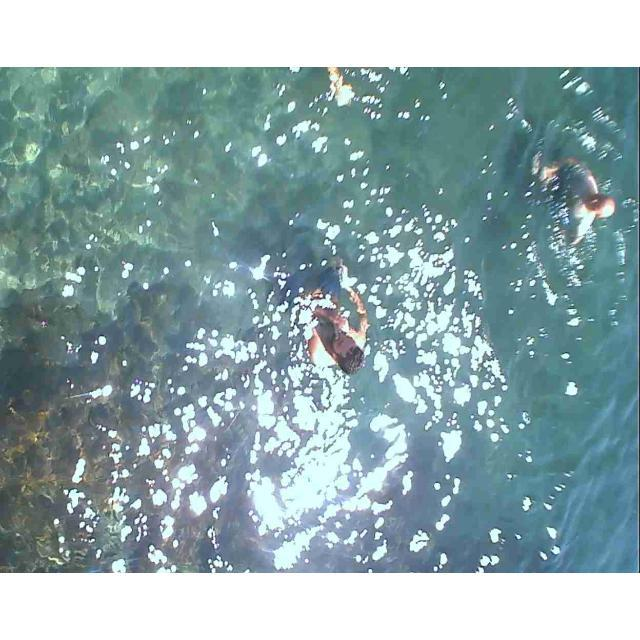human: (529, 138, 630, 276), (293, 251, 384, 394), (314, 67, 425, 119)
